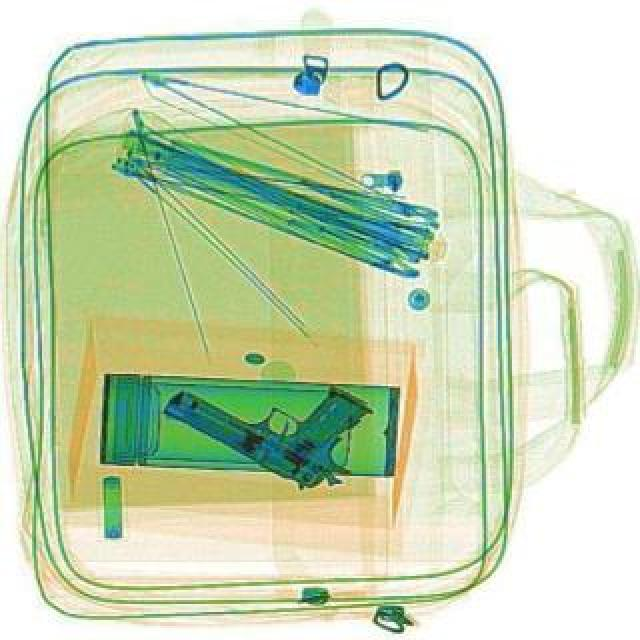gun: (160, 320, 388, 504)
